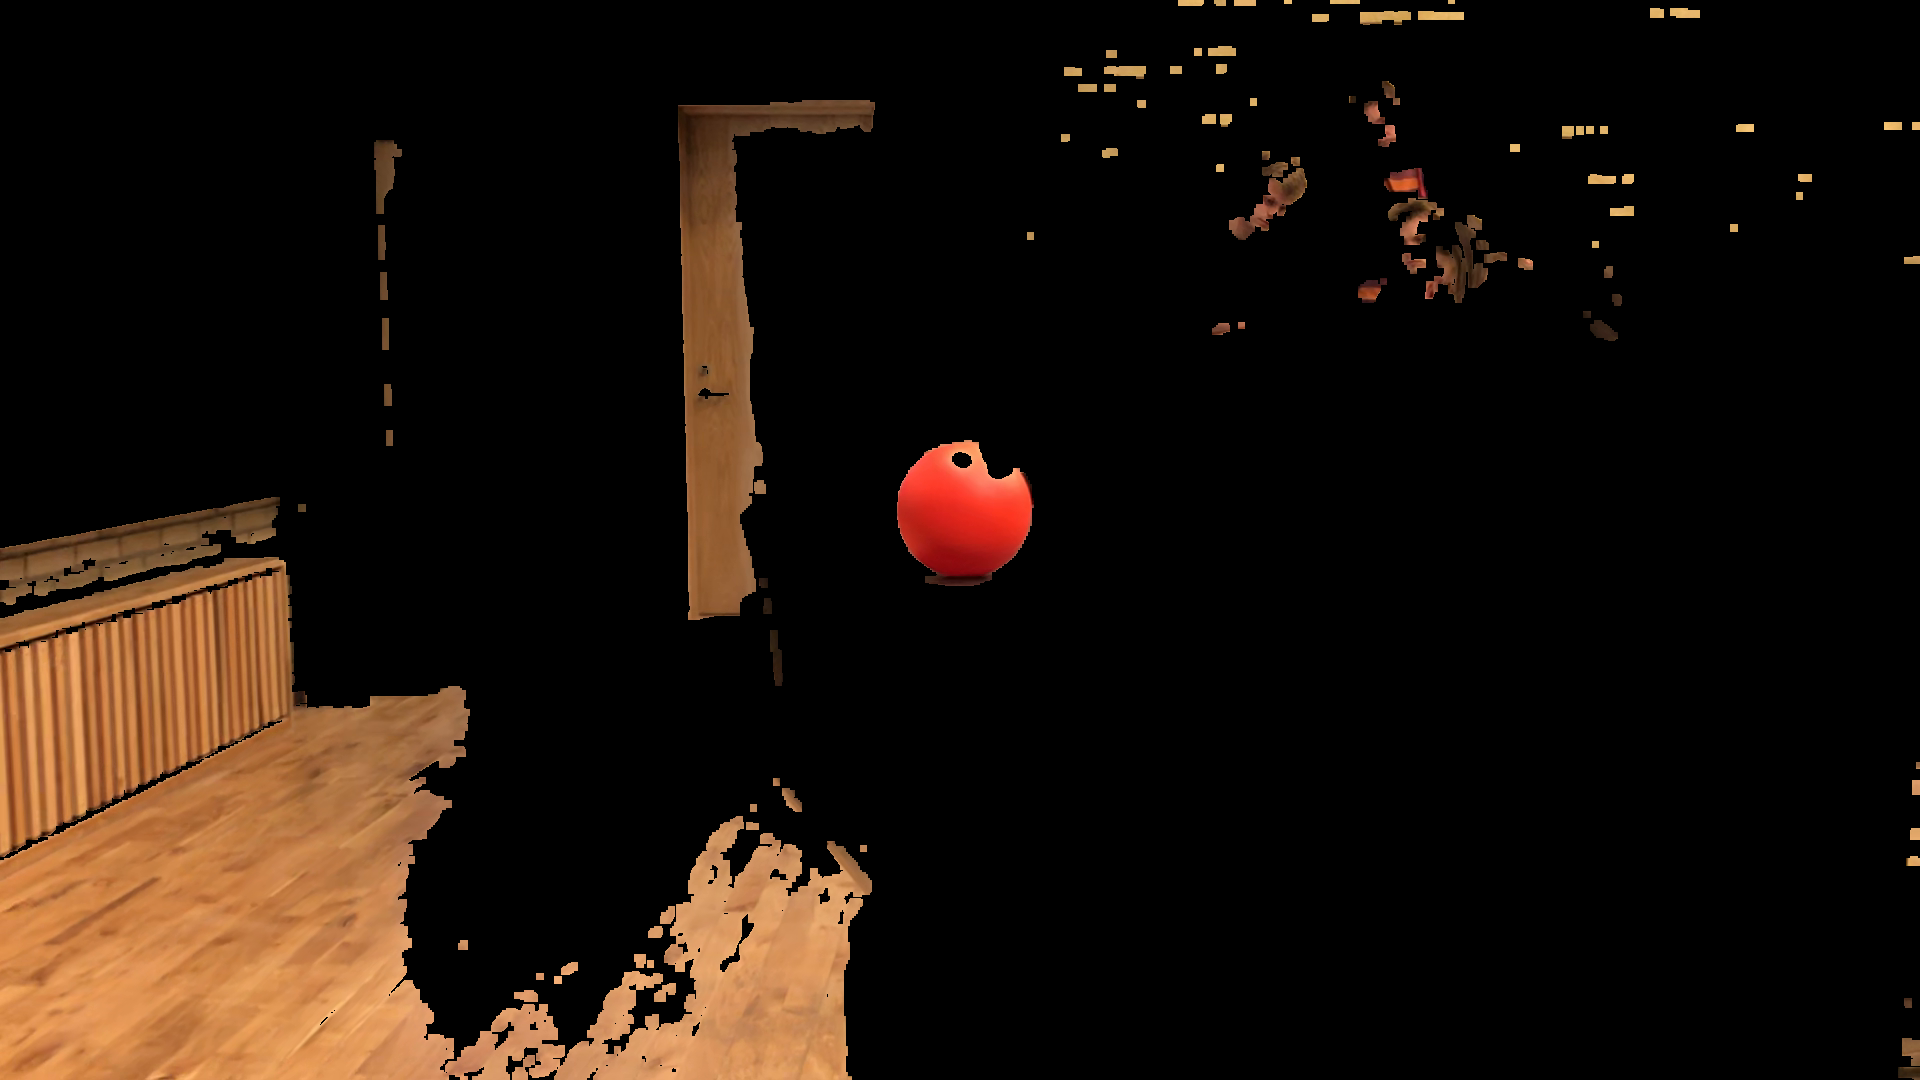Ball: (895, 442, 1046, 588)
